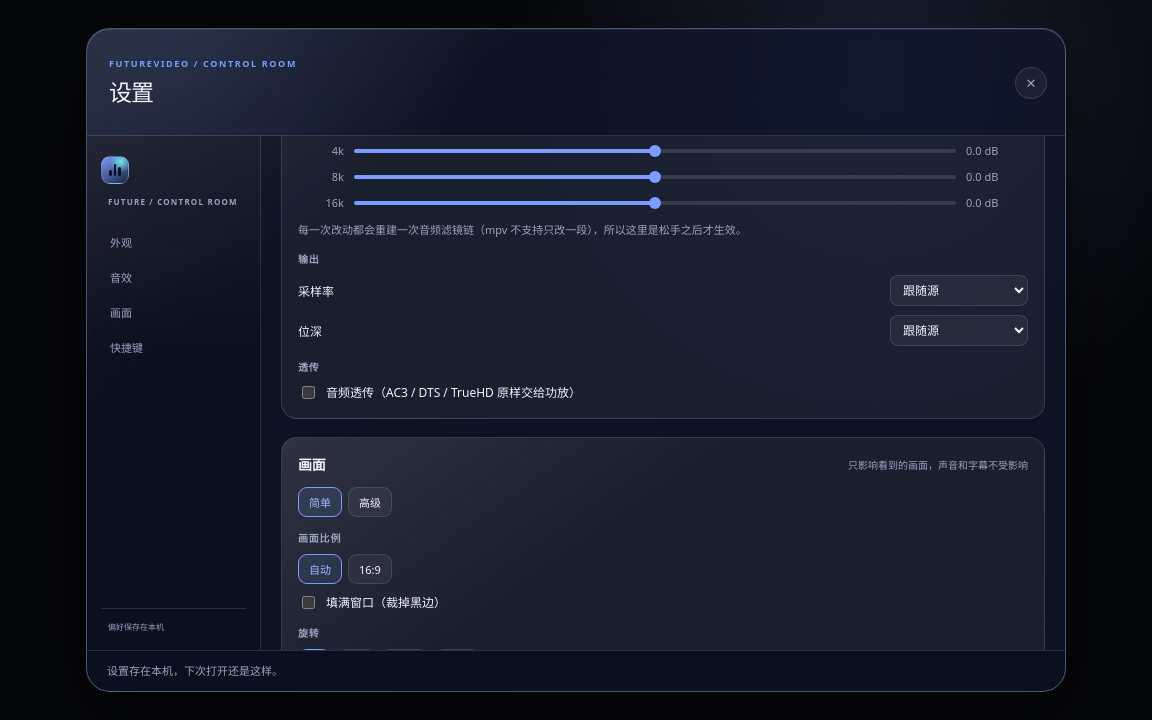
Test: 设置页 · 高级模式 › 开关透传会通知后端，并说明滤镜会失效
(page scrolled)
Click the checkbox labelled "音频透传（AC3 / DTS / TrueHD 原样交给功放）".
click(308, 393)  # box x1=302 y1=386 x2=315 y2=399
(page scrolled)
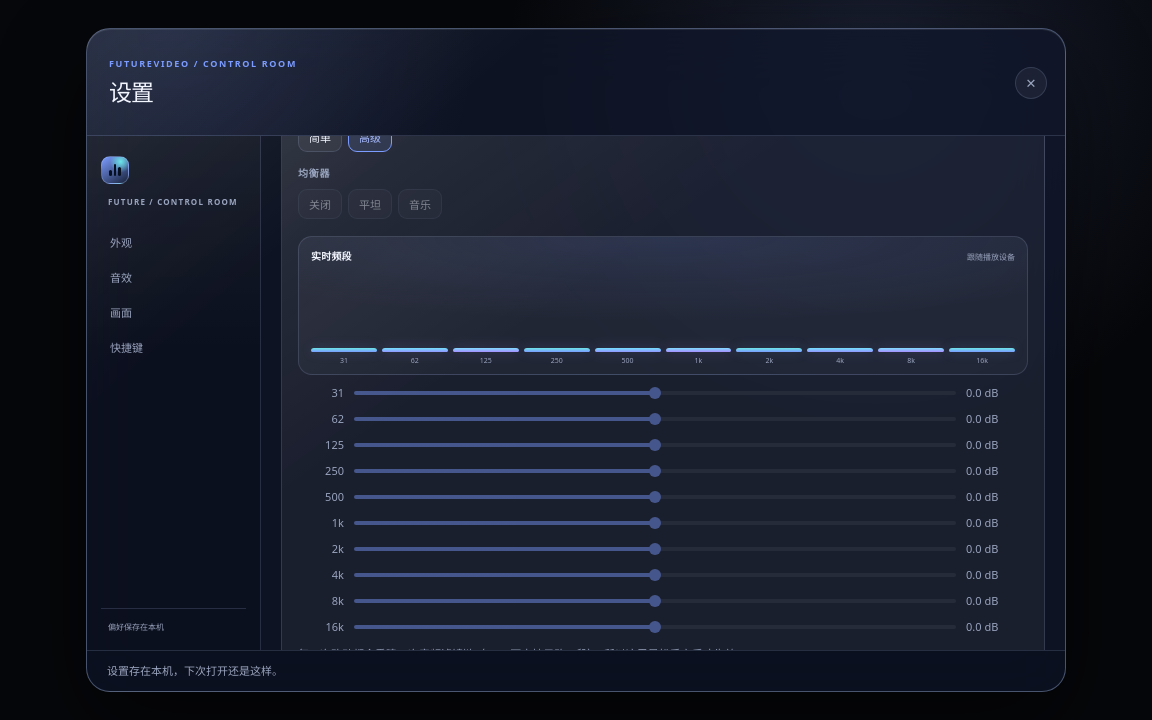
Check: the slider named "31 赫兹" is disabled, box x1=354 y1=384 x2=956 y2=402
